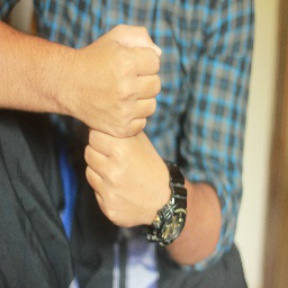G: (79, 18, 177, 233)
